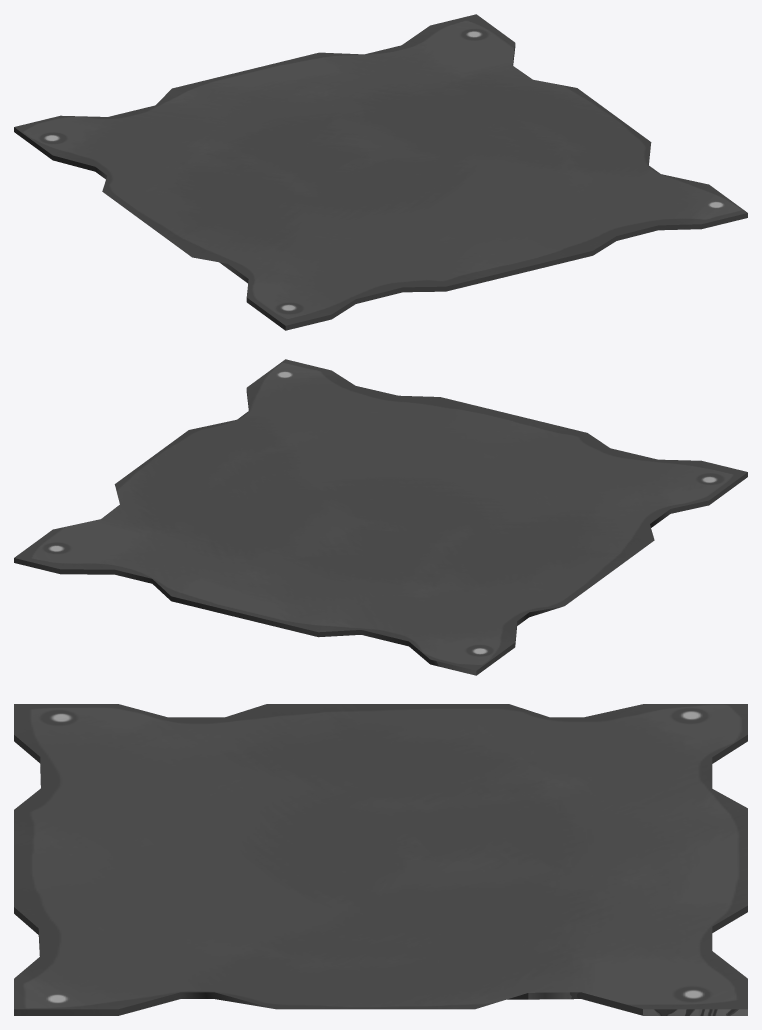
Rendered from Tile_model 1.fbx.
3 renders of one model, top to bottom at view 1: azimuth 30°, elevation 25°; view 2: azimuth 150°, elevation 25°; view 3: azimuth 270°, elevation 25°, orthographic. The views are drawn at different scales.
Parts seen in each view (by area): view 1: Box010; view 2: Box010; view 3: Box010.
Part boxes in pixels (left/top/right/bottom): Box010: left=14, top=14, right=747, bottom=330; Box010: left=14, top=359, right=747, bottom=675; Box010: left=14, top=704, right=747, bottom=1015.
Bounding box in the file's own units: 9.48 × 0.0972 × 9.64.
Materials: 1 (1 with a texture image).
